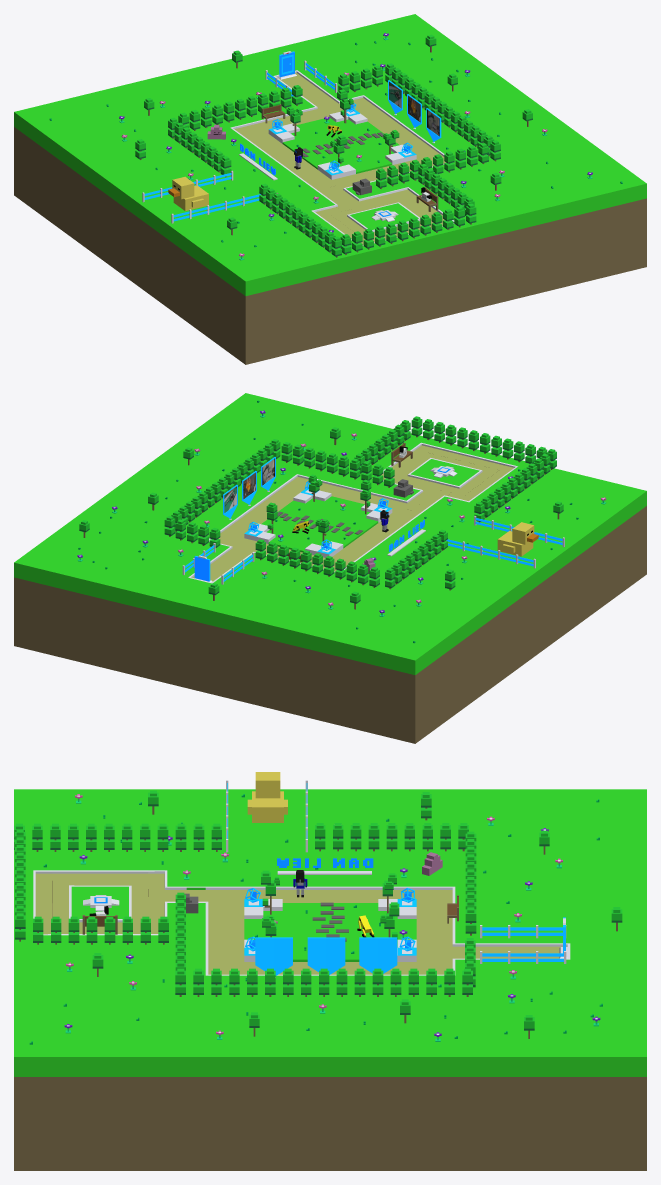
The model's file is portfolio1.1.glb.
The picture shows the model from 3 angles, top to bottom: view 1: azimuth 30°, elevation 25°; view 2: azimuth 150°, elevation 25°; view 3: azimuth 270°, elevation 25°; orthographic projection. The views are drawn at different scales.
Parts seen in each view (by area): view 1: Ground, duck; view 2: Ground, duck; view 3: Ground, duck, Project 2, Project 1, Project 3, Name.
Part boxes in pixels (<box>): Ground: <box>14,14,646,364</box>; duck: <box>168,176,208,210</box>; Ground: <box>14,393,646,743</box>; duck: <box>497,522,538,556</box>; Ground: <box>14,780,646,1170</box>; duck: <box>247,772,287,822</box>; Project 2: <box>307,937,345,974</box>; Project 1: <box>359,937,397,973</box>; Project 3: <box>255,937,292,975</box>; Name: <box>277,858,373,874</box>.
Size of what is drawn, in the model's own units: 252 by 68.91 by 252.
Materials: 28 (3 with a texture image).
